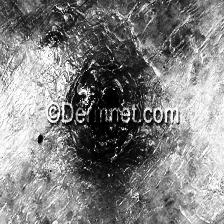Benign Marking or Mole: (80, 79, 121, 148)
